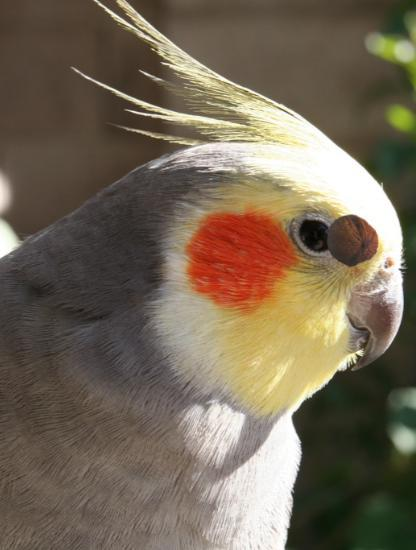Walnut: (325, 214, 380, 269)
